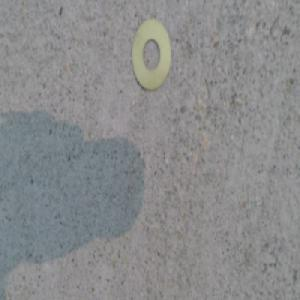Washer: (129, 18, 174, 93)
